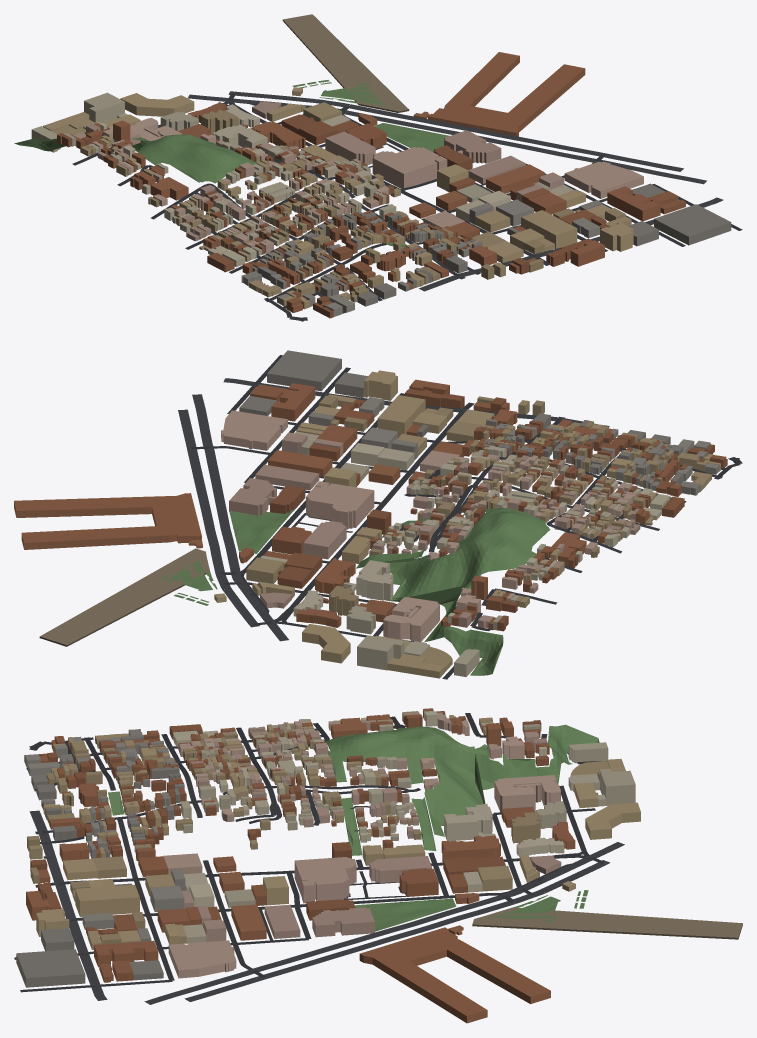
File: tile_13_9.glb
The picture shows the model from 3 angles, top to bottom: view 1: azimuth 30°, elevation 25°; view 2: azimuth 150°, elevation 25°; view 3: azimuth 270°, elevation 25°; orthographic projection. The views are drawn at different scales.
Parts seen in each view (by area): view 1: bld_13_9, grn_13_9, road_13_9; view 2: bld_13_9, grn_13_9, road_13_9; view 3: bld_13_9, grn_13_9, road_13_9.
Part boxes in pixels (x1,y1,x2,y2): bld_13_9: (31,52,731,318); grn_13_9: (14,14,449,247); road_13_9: (72,91,742,321); bld_13_9: (14,350,727,678); grn_13_9: (39,508,550,675); road_13_9: (178,355,742,679); bld_13_9: (16,708,640,1023); grn_13_9: (108,724,742,939); road_13_9: (14,713,624,1004).
Bounding box in the file's own units: 888 × 98.39 × 1003.
